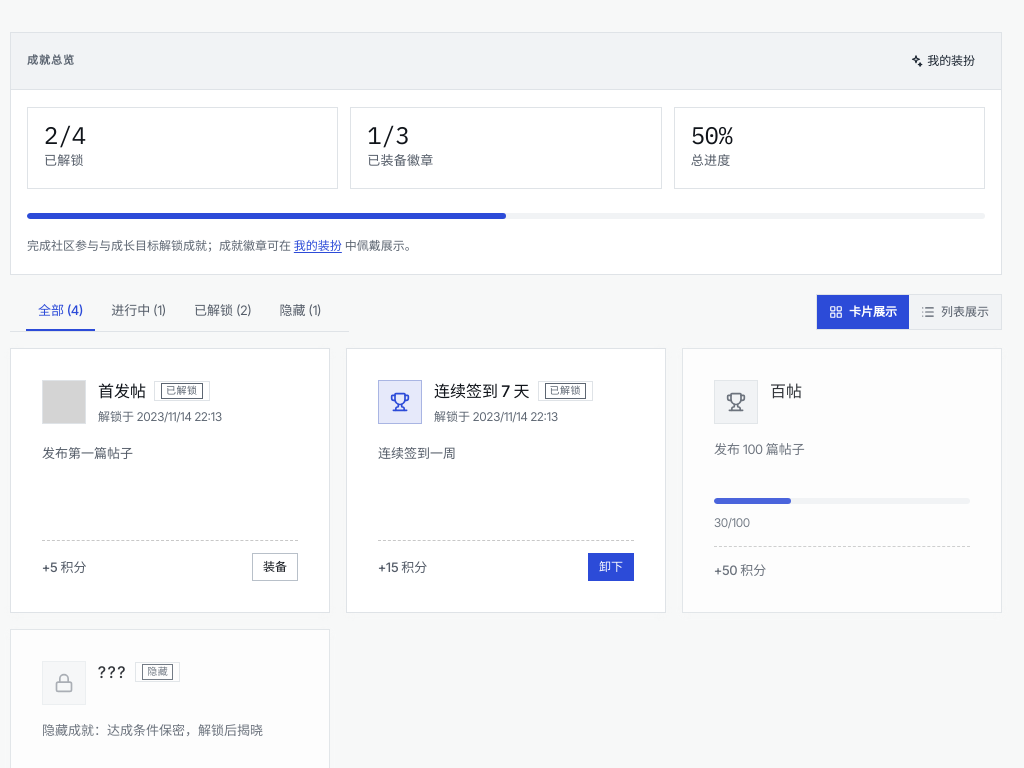
Test case: 成就墙 卡片展示 / 列表展示 切换与分类筛选 › 分类 tab 筛选在卡片展示模式下正常工作
Click the tab with class "tab" showing "已解锁 (2)" at (223,311), box [182,291,264,331]
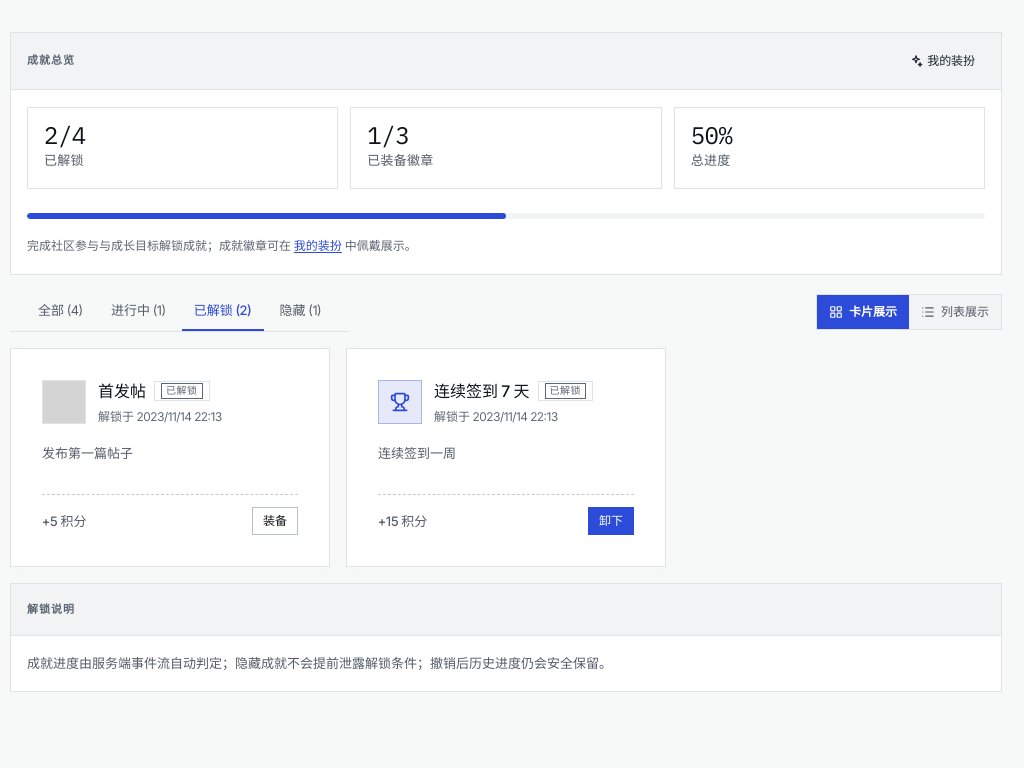
Expected: the text "首发帖" is shown, [98,380,146,402]
Now the number of elements with class "achievement-card" is 2, box [10,348,330,567]; [346,348,666,567]
Now the text "百帖" is gone
